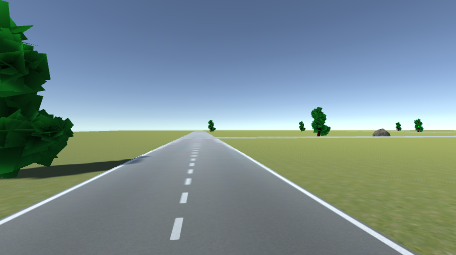rock: (373, 128, 390, 136)
tree: (1, 1, 76, 174), (311, 107, 330, 138), (414, 118, 424, 133), (207, 119, 216, 133), (394, 121, 403, 133), (298, 120, 306, 133)
